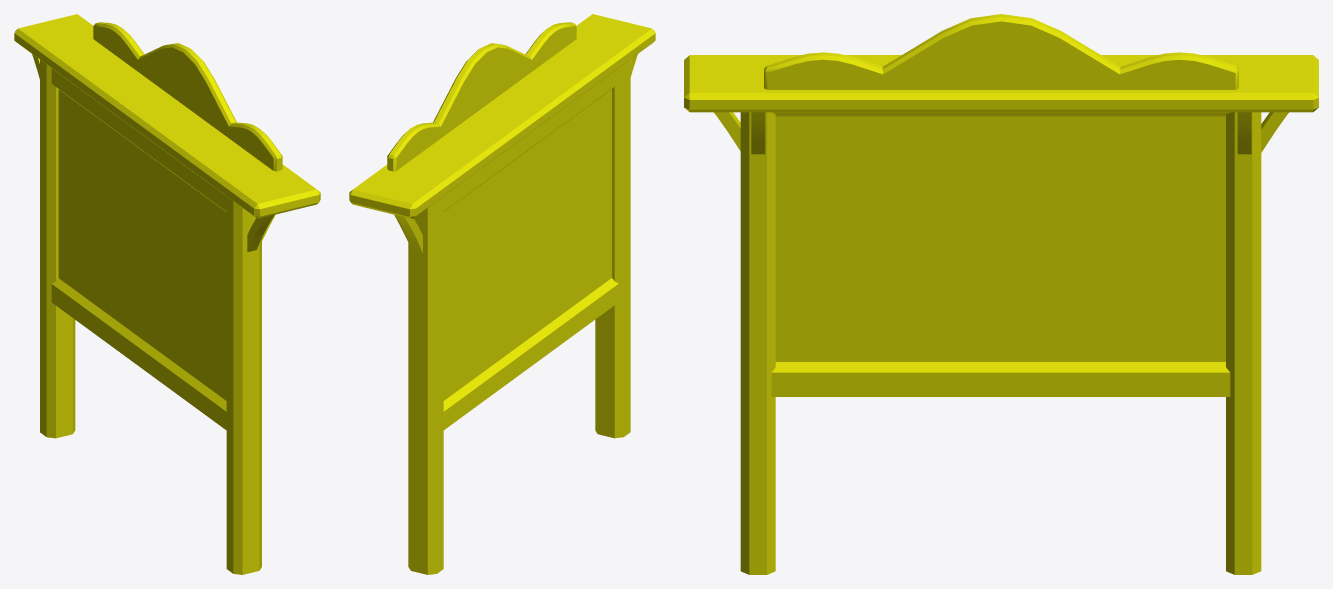
Rendered from Bulletin board.fbx.
3 renders of one model, left to right at view 1: azimuth 30°, elevation 25°; view 2: azimuth 150°, elevation 25°; view 3: azimuth 270°, elevation 25°, orthographic. The views are drawn at different scales.
Visible parts, largest first — view 1: Dosk; view 2: Dosk; view 3: Dosk.
Part boxes in pixels (x1,y1,x2,y2): Dosk: [14, 14, 320, 574]; Dosk: [349, 14, 655, 574]; Dosk: [684, 14, 1318, 574].
Bounding box in the file's own units: 22.24 × 141 × 141.
